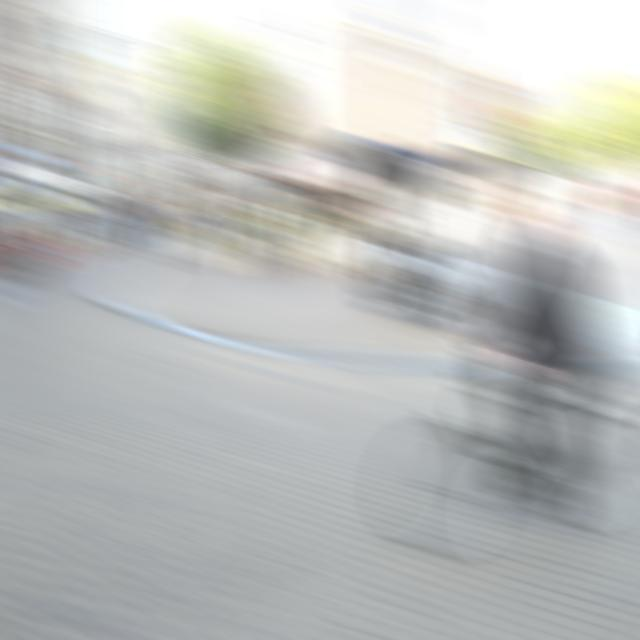Without Helmet: (502, 186, 569, 244)
